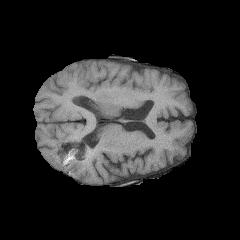glioma: (54, 134, 92, 178)
